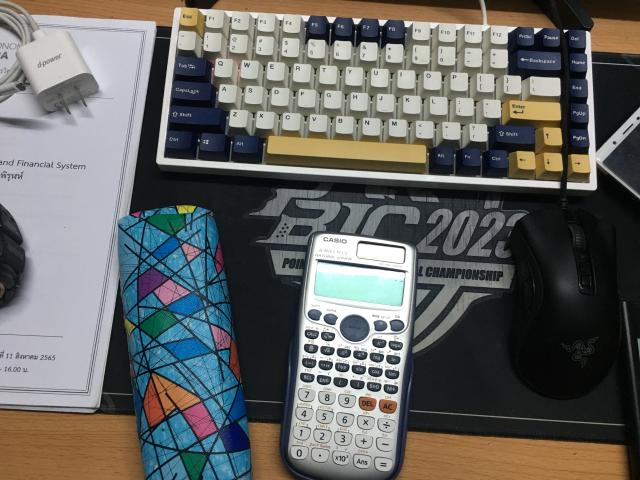Mobile phone: (596, 108, 640, 199)
Mouse: (510, 30, 620, 399)
Watch: (0, 204, 25, 305)
paper: (0, 15, 156, 411)
